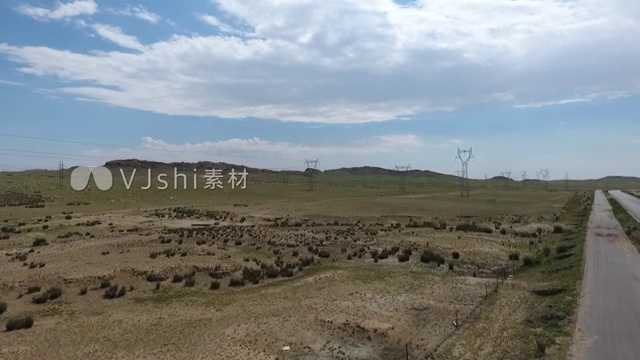tower_body: (453, 143, 483, 201), (393, 164, 416, 194), (302, 157, 322, 191)
tower_foot: (457, 181, 473, 198)
tower_head: (455, 145, 477, 165)
